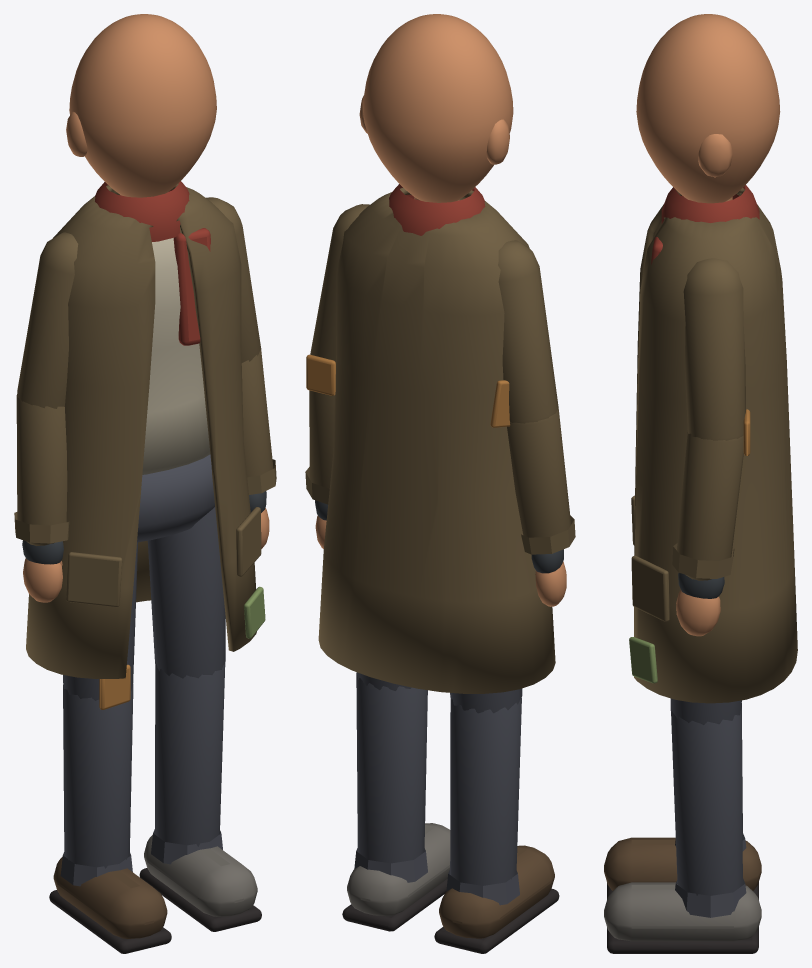
The model's file is body_female.fbx.
3 views of the same model, side by side, from view 1: azimuth 30°, elevation 25°; view 2: azimuth 150°, elevation 25°; view 3: azimuth 270°, elevation 25° (orthographic).
Visible parts, largest first — view 1: body_female; view 2: body_female; view 3: body_female.
Part boxes in pixels (x1=…): body_female: x1=14, y1=14, x2=276, y2=953; body_female: x1=305, y1=14, x2=575, y2=953; body_female: x1=604, y1=14, x2=797, y2=953.
Size of the model in its own units: 0.5431 by 1.8 by 0.3505.
